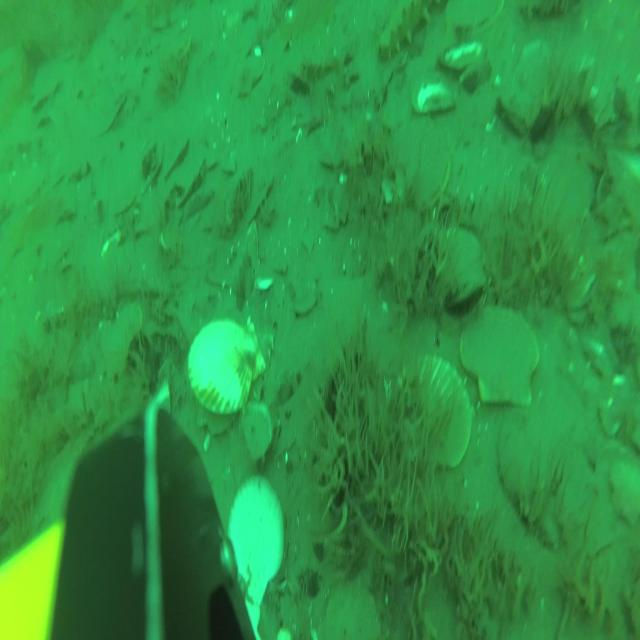holothurian: (376, 0, 438, 65)
scallop: (188, 315, 268, 432), (458, 305, 544, 410), (400, 358, 473, 474), (227, 477, 283, 612), (393, 119, 455, 207), (535, 149, 596, 232), (423, 225, 486, 305), (610, 461, 640, 530), (445, 0, 507, 33), (10, 163, 46, 208), (234, 52, 264, 96), (292, 284, 318, 318)
